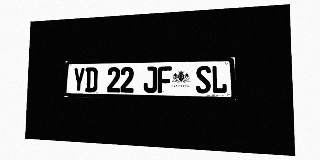2: (120, 67, 134, 93), (107, 67, 120, 92)
D: (85, 67, 98, 92)
F: (157, 66, 172, 93)
J: (143, 66, 157, 93)
L: (211, 65, 227, 94)
S: (196, 66, 211, 93)
Y: (73, 67, 85, 92)
